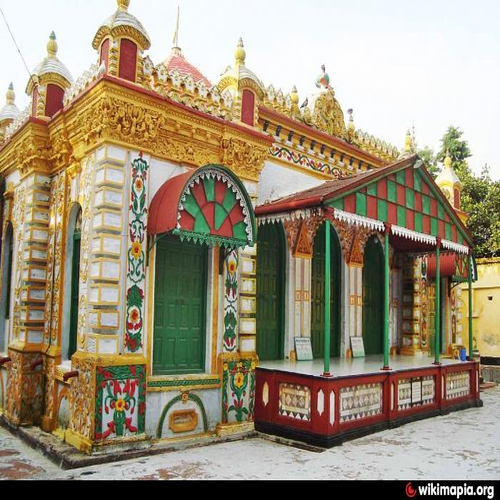Temple: (7, 9, 480, 446)
